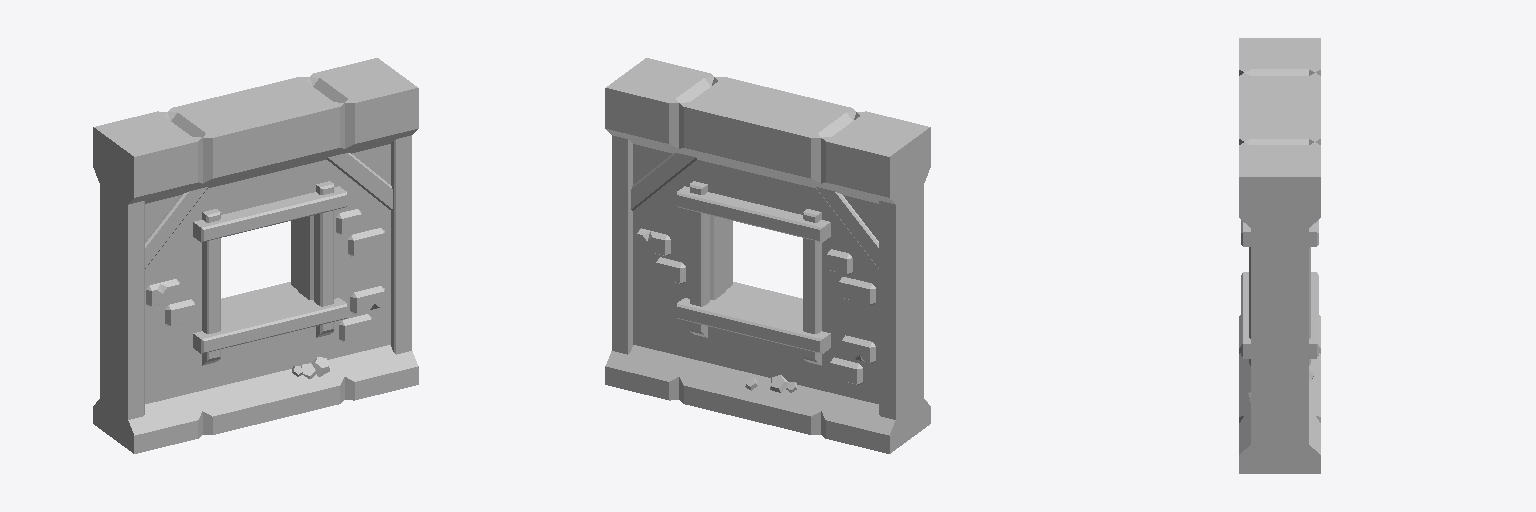
The model's file is wall_window_open_scaffold.obj.
3 views of the same model, side by side, from view 1: azimuth 30°, elevation 25°; view 2: azimuth 150°, elevation 25°; view 3: azimuth 270°, elevation 25° (orthographic).
Parts seen in each view (by area): view 1: wall_window_open_scaffold_Cube.13136; view 2: wall_window_open_scaffold_Cube.13136; view 3: wall_window_open_scaffold_Cube.13136.
Boxes of the visible parts, <box> form: wall_window_open_scaffold_Cube.13136: <box>93,58,418,453</box>; wall_window_open_scaffold_Cube.13136: <box>605,58,930,453</box>; wall_window_open_scaffold_Cube.13136: <box>1239,38,1320,473</box>.
Bounding box in the file's own units: 4 × 4 × 1.